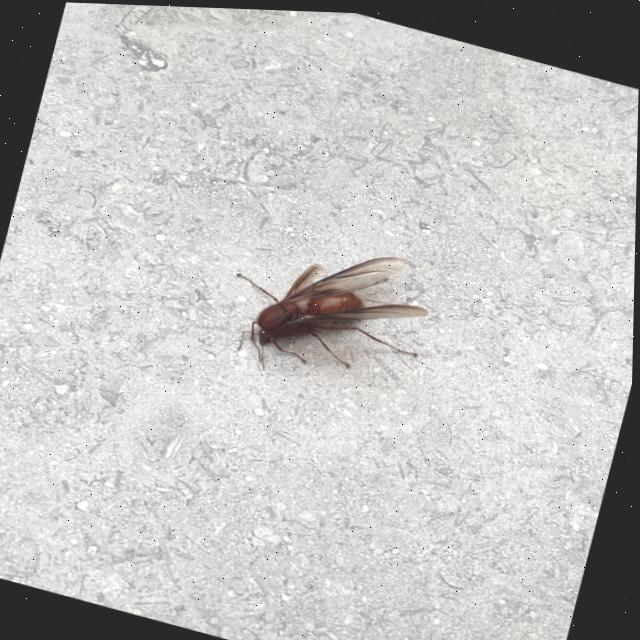Dead-Male-Alate: (216, 215, 442, 404)
